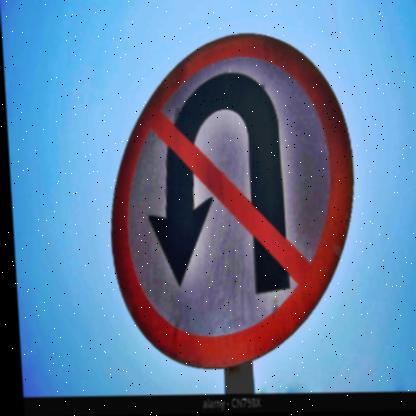No U-turn: (100, 29, 360, 363)
